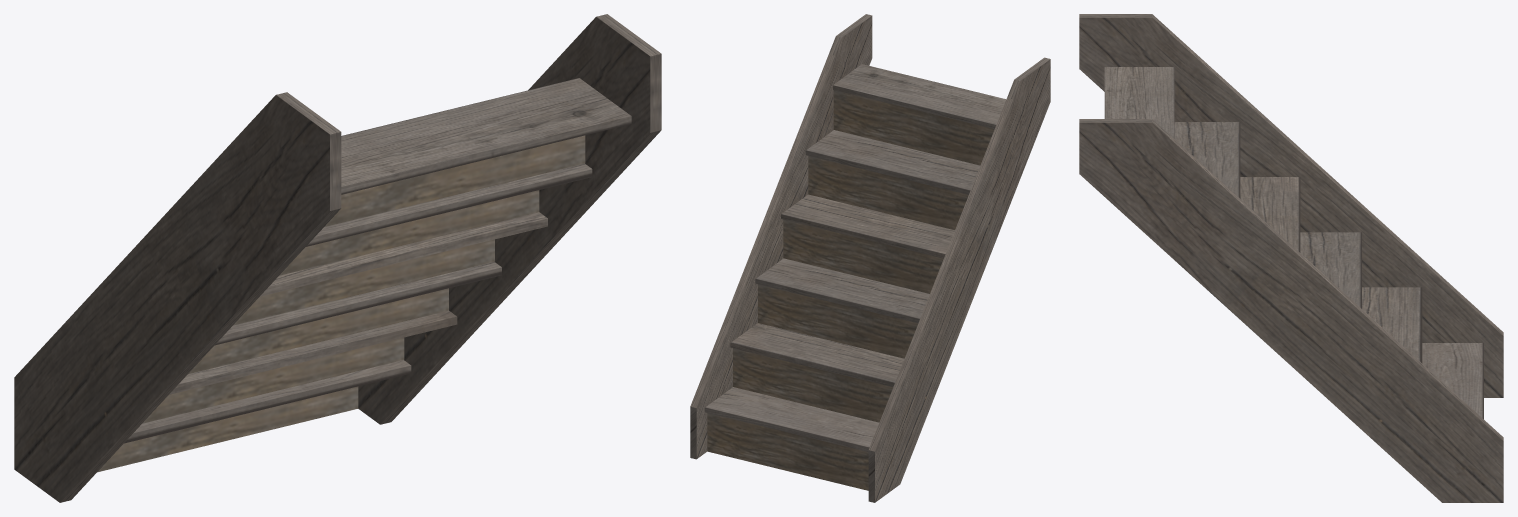
File: woodstair01b.fbx
3 views of the same model, side by side, from view 1: azimuth 30°, elevation 25°; view 2: azimuth 150°, elevation 25°; view 3: azimuth 270°, elevation 25° (orthographic). The views are drawn at different scales.
Visible parts, largest first — view 1: woodstair01b; view 2: woodstair01b; view 3: woodstair01b.
Boxes of the visible parts, x1=… form: woodstair01b: x1=14, y1=14, x2=661, y2=502; woodstair01b: x1=690, y1=14, x2=1050, y2=502; woodstair01b: x1=1079, y1=14, x2=1503, y2=502.
Size of the model in its own units: 110 by 179 by 181.
